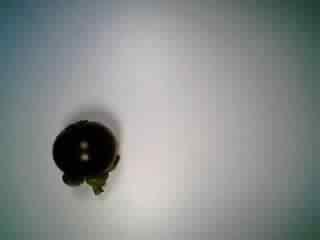mangosteen: (46, 115, 124, 197)
